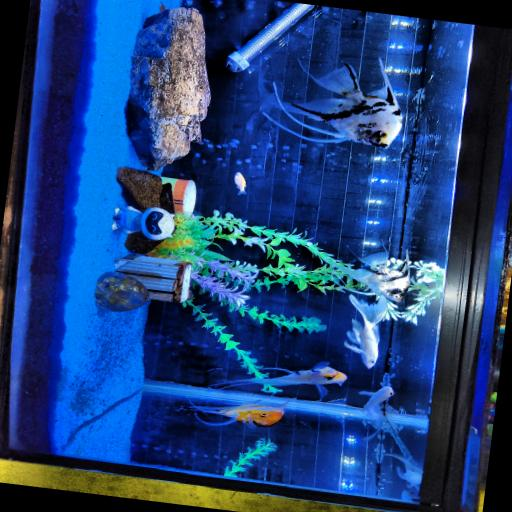Fish: (263, 59, 401, 147), (220, 362, 346, 397), (346, 250, 409, 301), (344, 294, 386, 367), (184, 402, 286, 426), (358, 385, 393, 440), (384, 452, 421, 487), (358, 386, 393, 410), (233, 171, 245, 194), (401, 489, 419, 502), (180, 0, 193, 6), (159, 3, 164, 10)
